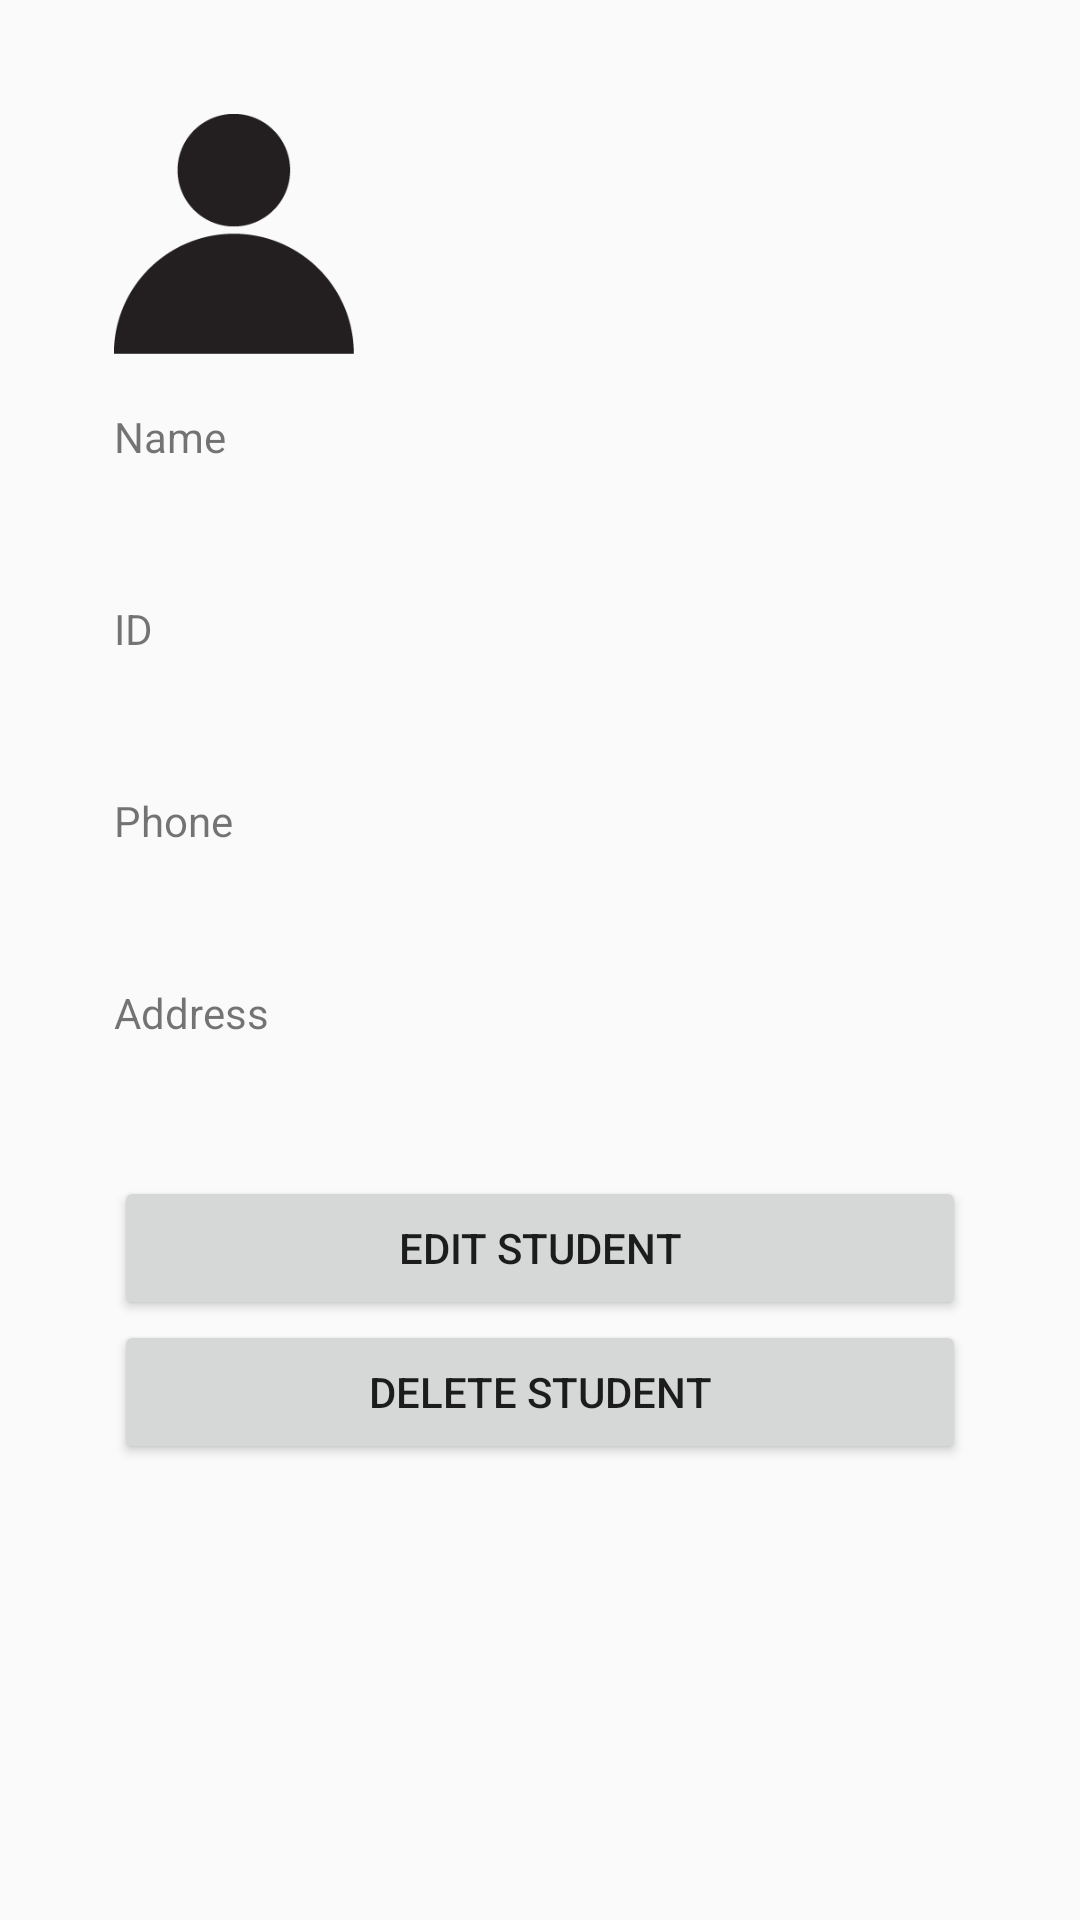

Screen size 1080w x 1920h. Icon name, then its center in pixels as point (x, y):
student pic: point (234, 234)
